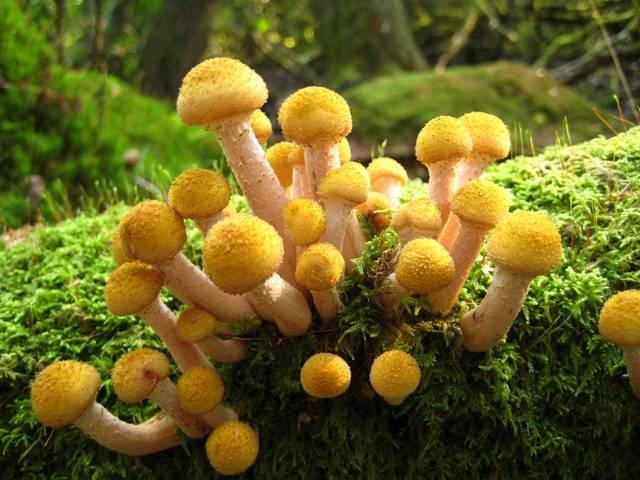Edible Mushroom: (30, 55, 564, 472)
